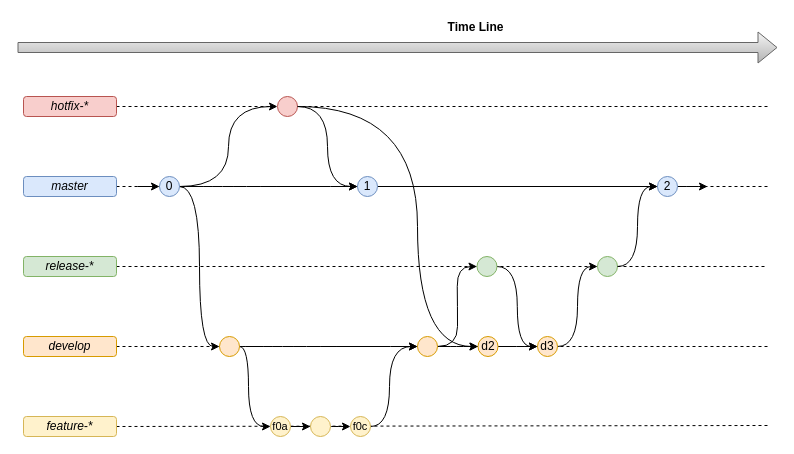
The diagram is 794 pixels wide and 454 high, and some of its shapes have lost their labels. The shapes that lost their labels are listed below. From the top down, each one's box as (x1, y1, x2, y2) in pixels, then its label:
(276, 96, 298, 116): h1
(476, 256, 497, 276): r1
(596, 256, 618, 276): r2
(218, 336, 240, 356): d0
(416, 336, 438, 356): d1
(310, 416, 330, 436): f0b
